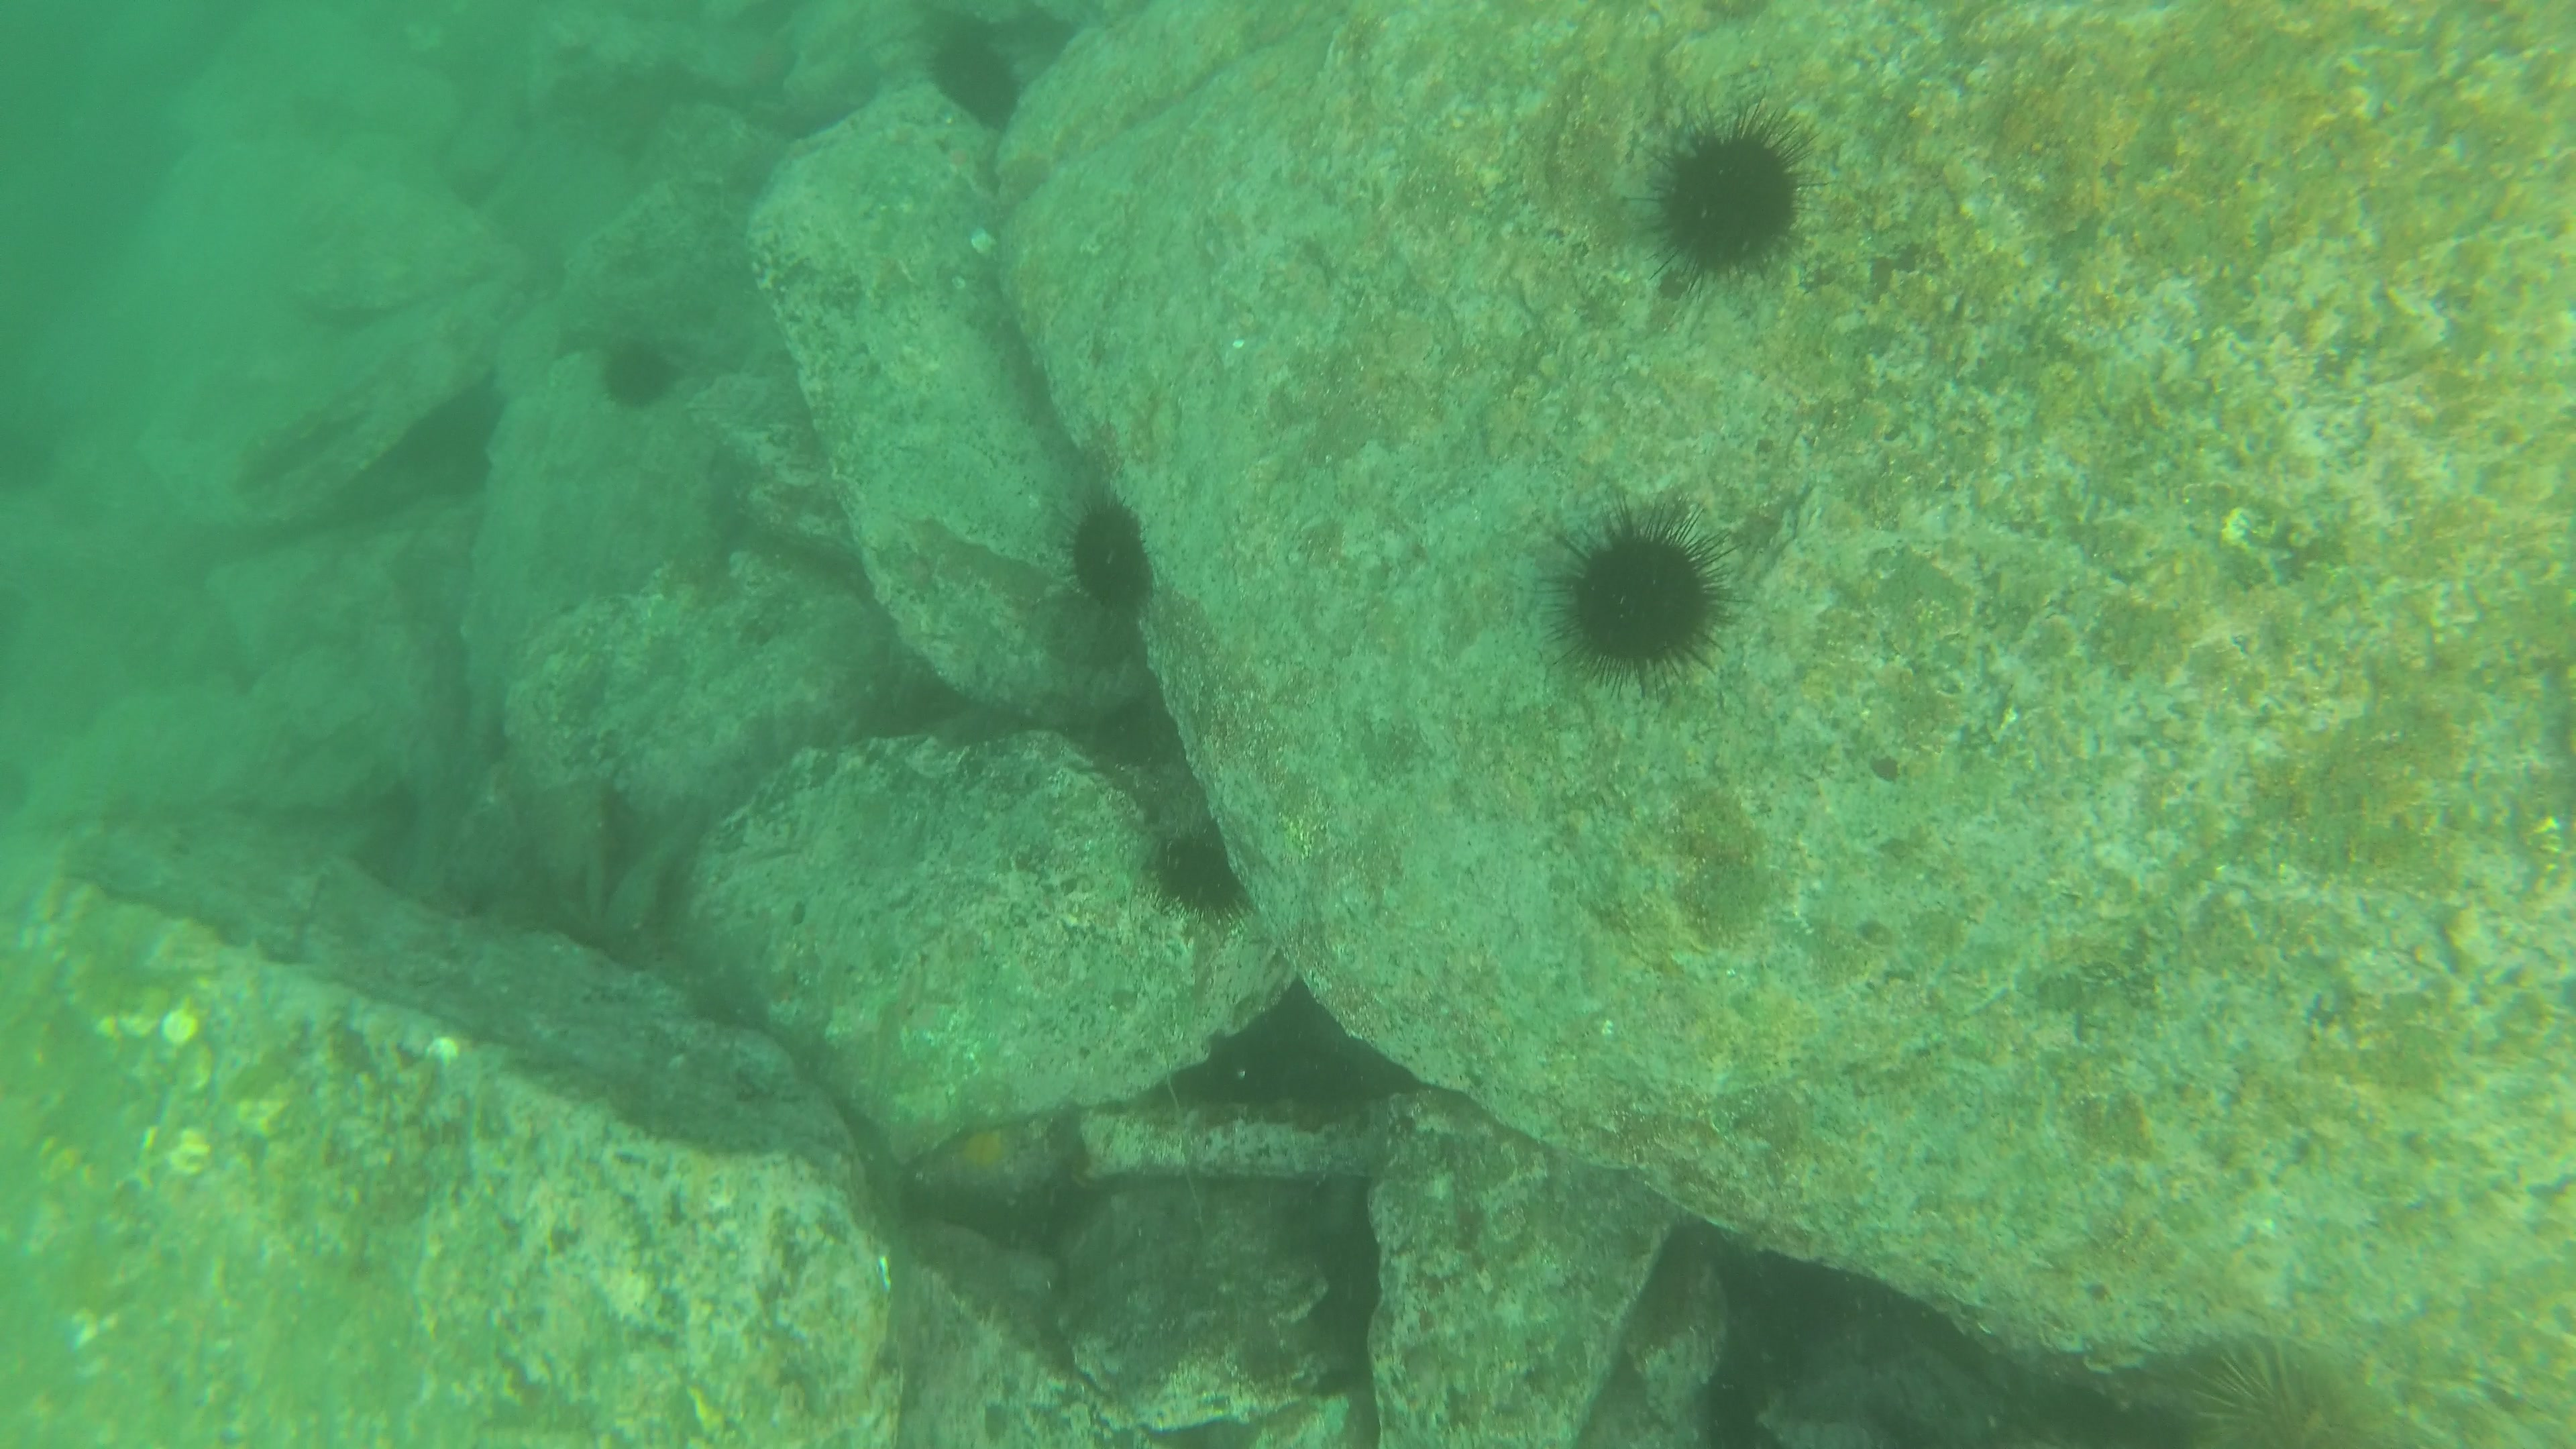echinus: (1532, 501, 1741, 695), (1660, 104, 1815, 294), (2164, 1346, 2357, 1444), (1155, 832, 1260, 929), (916, 41, 1030, 120), (1060, 506, 1155, 596), (605, 334, 671, 412)
